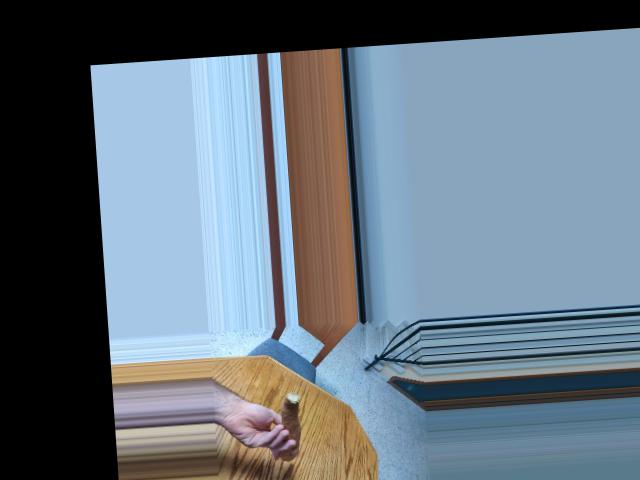sweet_potato: (271, 390, 306, 460)
